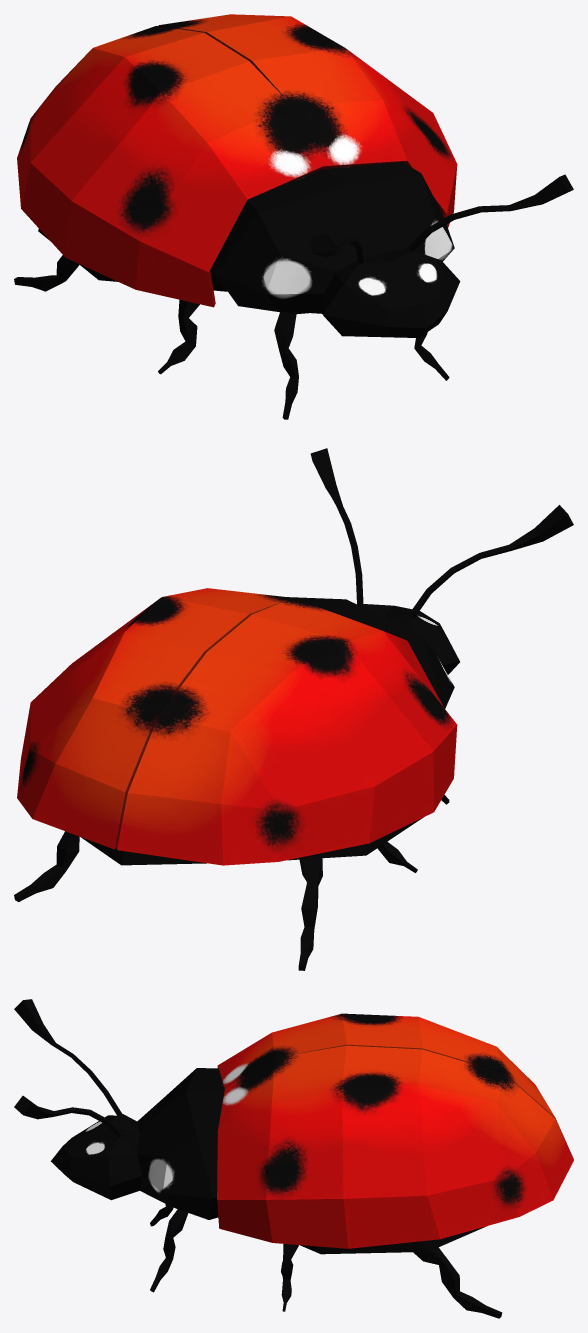
Rendered from ladybug.glb.
3 renders of one model, top to bottom at view 1: azimuth 30°, elevation 25°; view 2: azimuth 150°, elevation 25°; view 3: azimuth 270°, elevation 25°, orthographic. The views are drawn at different scales.
Parts seen in each view (by area): view 1: LadyBug_mesh; view 2: LadyBug_mesh; view 3: LadyBug_mesh.
Part boxes in pixels (bbox=[...]): LadyBug_mesh: bbox=[14, 14, 573, 419]; LadyBug_mesh: bbox=[14, 448, 573, 970]; LadyBug_mesh: bbox=[14, 999, 573, 1318].
Bounding box in the file's own units: 0.0511 × 0.0338 × 0.08.
1 material, 1 textured.
